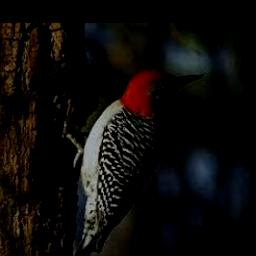Woodpecker: (68, 68, 203, 256)
